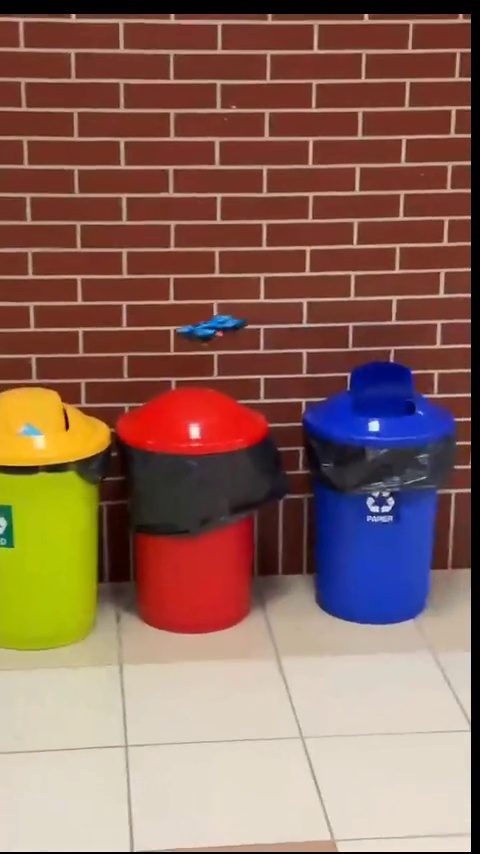drone: (171, 311, 245, 343)
